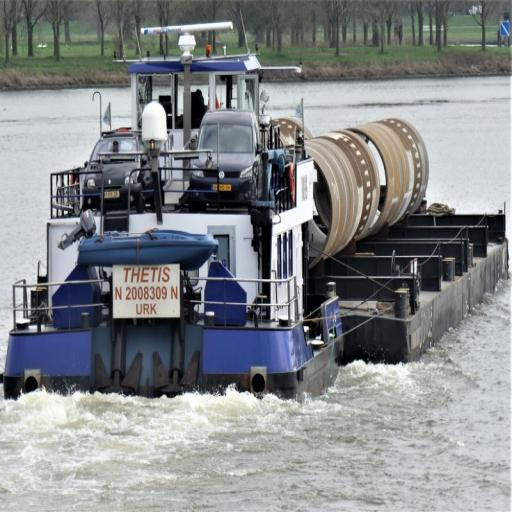tugboat: (2, 18, 348, 422)
